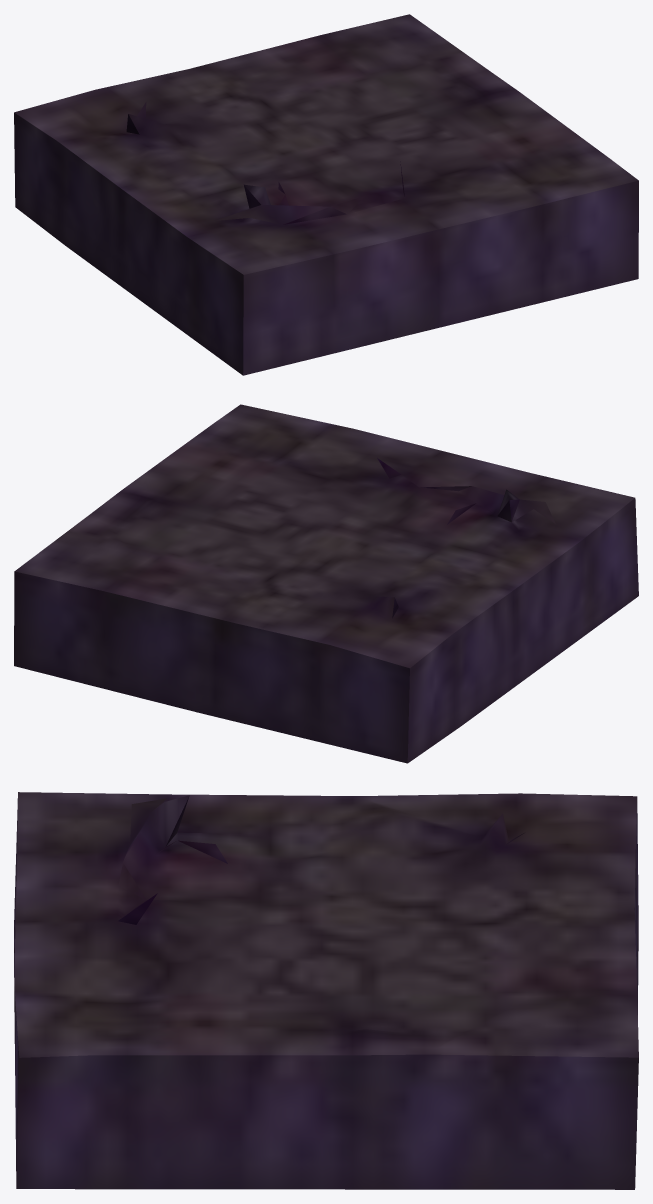
File: b_abimes_sol_2_lod1.glb
The picture shows the model from 3 angles, top to bottom: view 1: azimuth 30°, elevation 25°; view 2: azimuth 150°, elevation 25°; view 3: azimuth 270°, elevation 25°; orthographic projection. The views are drawn at different scales.
Parts seen in each view (by area): view 1: geometry_0; view 2: geometry_0; view 3: geometry_0.
Boxes of the visible parts, left/top/right/bottom form: geometry_0: left=14, top=14, right=638, bottom=375; geometry_0: left=14, top=404, right=638, bottom=763; geometry_0: left=14, top=792, right=638, bottom=1189.
Bounding box in the file's own units: 1 × 0.3113 × 1.
1 material, 1 textured.
